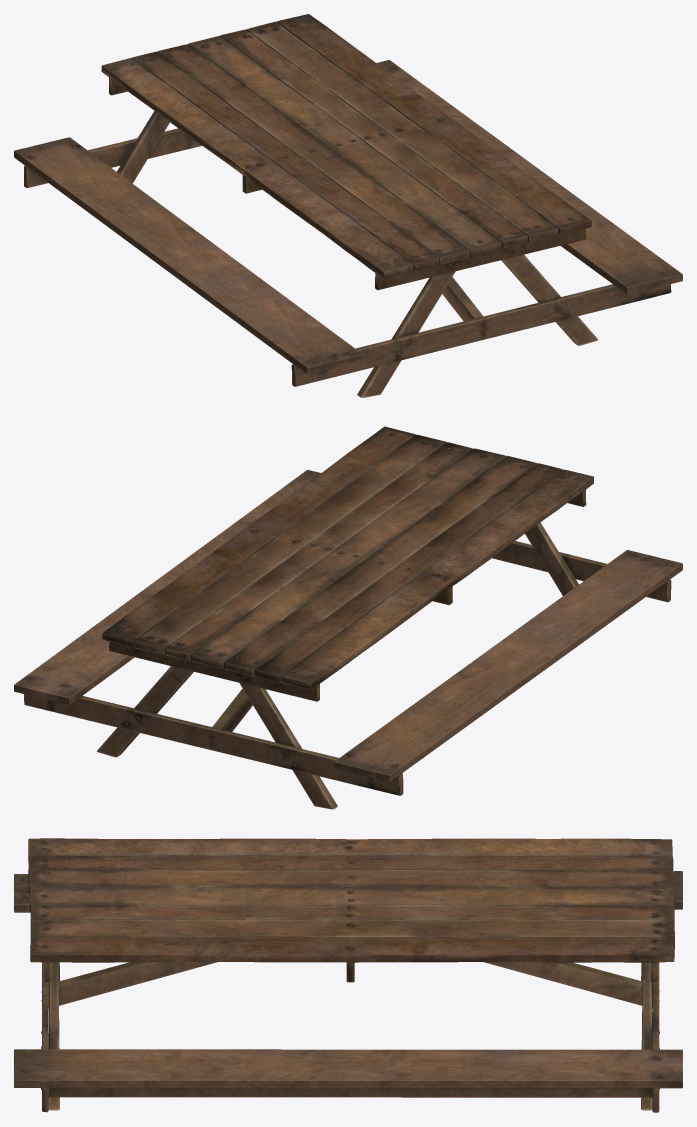
The model's file is picnic_table.glb.
The picture shows the model from 3 angles, top to bottom: view 1: azimuth 30°, elevation 25°; view 2: azimuth 150°, elevation 25°; view 3: azimuth 270°, elevation 25°; orthographic projection. The views are drawn at different scales.
Parts seen in each view (by area): view 1: wooden_picnic_table_bottom; view 2: wooden_picnic_table_bottom; view 3: wooden_picnic_table_bottom.
Part boxes in pixels (bbox=[...]): wooden_picnic_table_bottom: bbox=[14, 14, 682, 397]; wooden_picnic_table_bottom: bbox=[14, 426, 682, 809]; wooden_picnic_table_bottom: bbox=[14, 838, 682, 1112].
Size of the model in its own units: 2.24 by 0.746 by 3.02.
2 materials, 2 textured.
